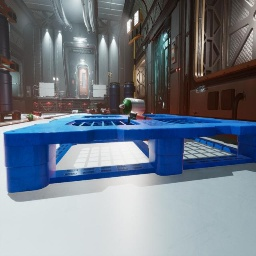0: (119, 98, 145, 115), (25, 114, 44, 122), (72, 110, 80, 114), (88, 106, 90, 109)
EmergencyPhone ,: (92, 79, 94, 84)
FireAlarm ,: (72, 80, 74, 84)
FireExtinguisher ]: (128, 111, 157, 142), (31, 109, 42, 117), (53, 95, 58, 97), (74, 96, 78, 98), (89, 98, 91, 99)
FirstAidBox ,: (85, 108, 91, 113), (68, 95, 70, 98)
NitrogenTank ,: (104, 109, 119, 115), (90, 108, 99, 114), (100, 108, 107, 114), (109, 109, 110, 110)
SafetySwitchPanel ,: (171, 37, 178, 64), (26, 86, 31, 97)
